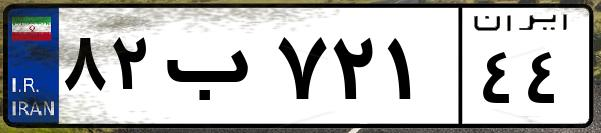1: (385, 28, 445, 110)
2: (330, 28, 385, 110), (110, 28, 158, 98)
4: (475, 38, 525, 113), (525, 38, 570, 115)
7: (270, 28, 330, 110)
8: (57, 26, 110, 100)
ب: (158, 20, 270, 120)
